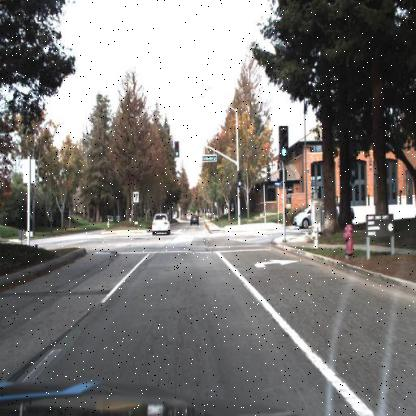car: (292, 203, 333, 231), (291, 202, 316, 230), (150, 211, 172, 237), (189, 212, 201, 228)
trafficLight-Green: (278, 126, 288, 160), (236, 169, 242, 188), (174, 140, 181, 156), (174, 140, 179, 160)
